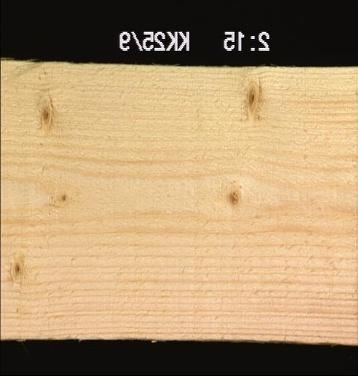small_knot: (34, 90, 56, 134), (5, 250, 27, 284), (55, 187, 71, 205)
sound_knot: (239, 75, 265, 120), (224, 183, 243, 208)
